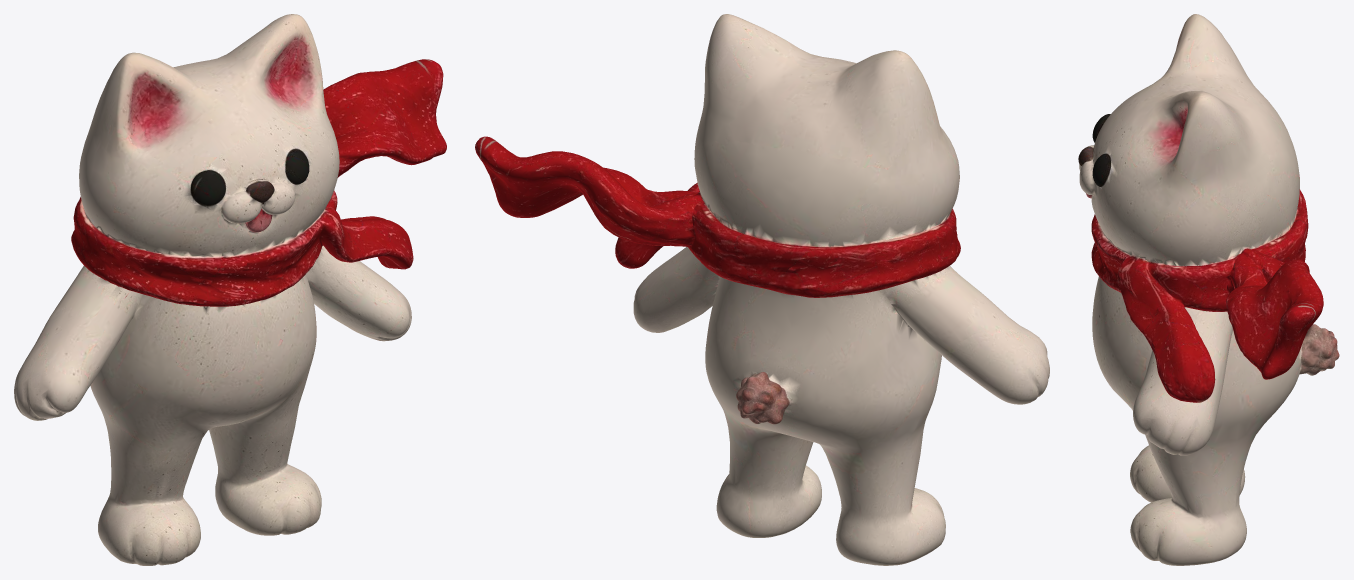
The model's file is scarf-cat.glb.
The picture shows the model from 3 angles, left to right: view 1: azimuth 30°, elevation 25°; view 2: azimuth 150°, elevation 25°; view 3: azimuth 270°, elevation 25°; orthographic projection. The views are drawn at different scales.
Bounding box in the file's own units: 1.9 × 1.82 × 0.9159.
1 material, 1 textured.
